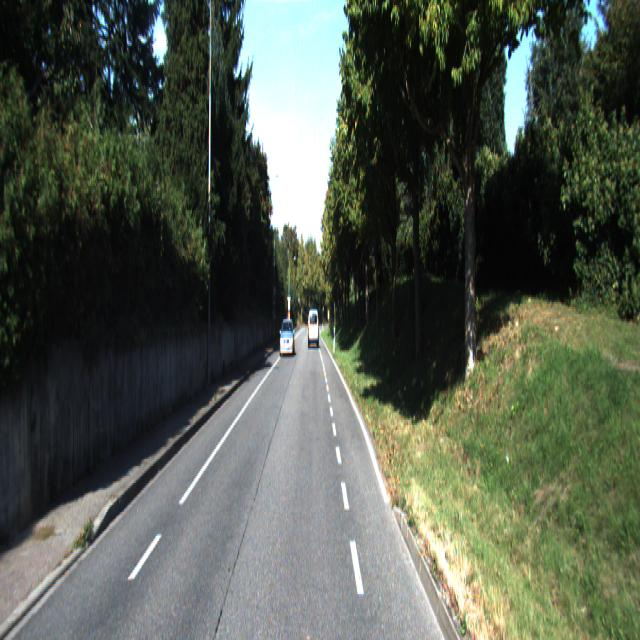Car: (279, 318, 294, 357)
Van: (307, 308, 319, 349)
